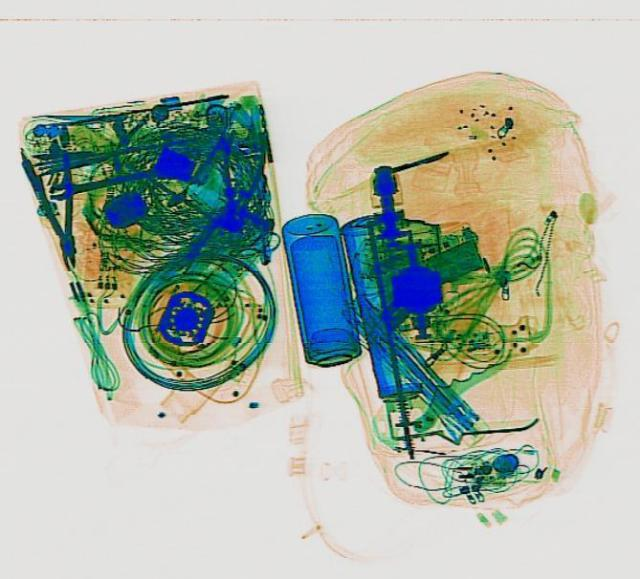Pliers: (19, 148, 92, 272), (208, 128, 266, 241)
Wrench: (46, 155, 172, 201)
